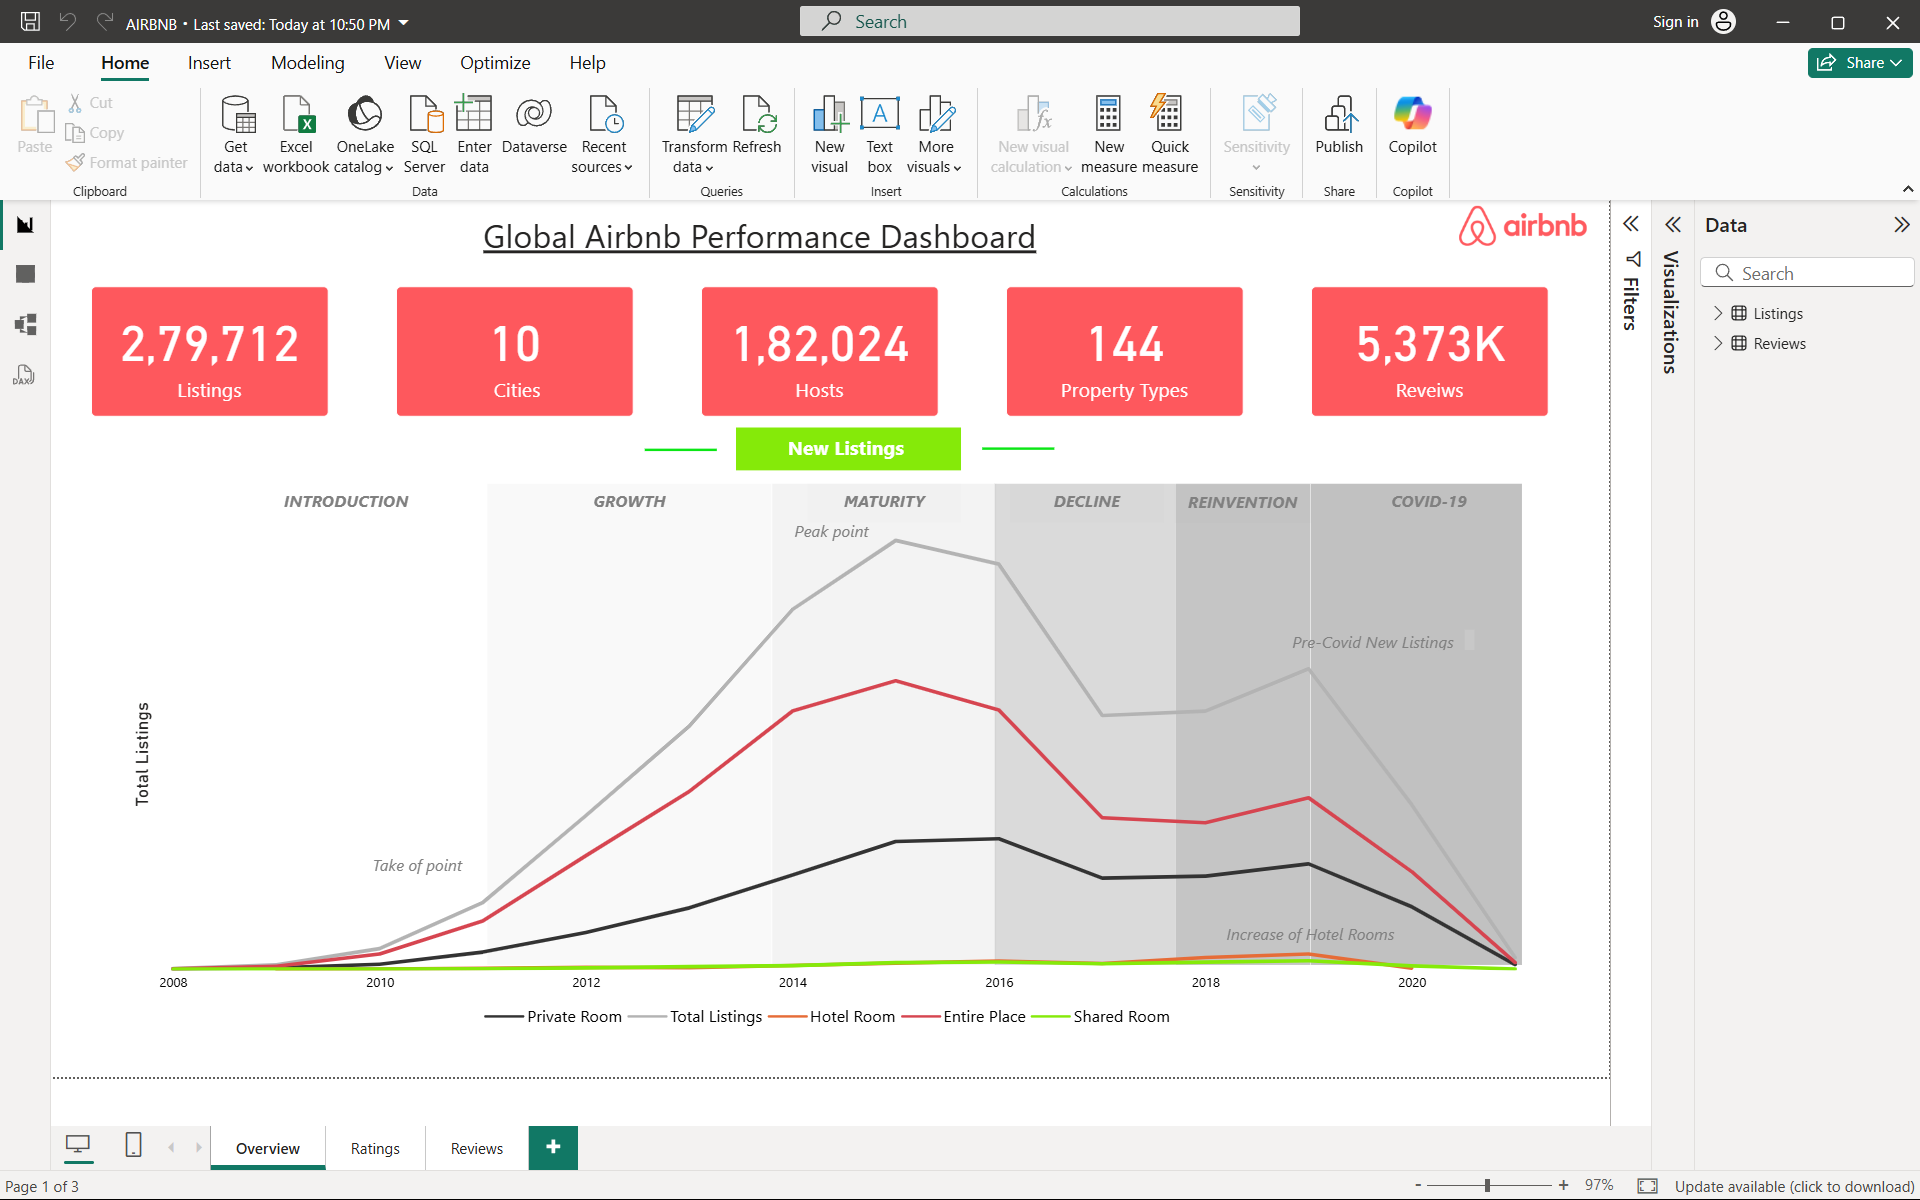

This screenshot's page, from the dashboard's own definition file:
{"tool":"powerbi","page":{"name":"Overview","canvas":[1280,720],"ordinal":0},"visuals":[{"type":"shape","box":[83.7,233.7,274.4,395.3],"z":0},{"type":"shape","box":[358.7,232.7,233.3,395.2],"z":1000},{"type":"shape","box":[592,232.7,183.9,395.2],"z":2000},{"type":"shape","box":[775.6,232.6,148.8,395.3],"z":3000},{"type":"shape","box":[924.4,232.6,110.5,395.3],"z":4000},{"type":"shape","box":[1034.9,232.6,173.3,395.3],"z":5000},{"type":"textbox","box":[349.6,6.6,532.4,63.1],"z":6000},{"type":"image","box":[1136.2,0,144.1,42.5],"z":7000},{"type":"card","fields":{"Values":["CountNonNull(Listings.listing_id)"]},"box":[32.7,71.2,194.9,107],"z":8000},{"type":"card","fields":{"Values":["CountNonNull(Reviews.review_id)"]},"box":[1034.4,71.2,194.9,107],"z":9000},{"type":"card","fields":{"Values":["Count(Listings.property_type)"]},"box":[783.9,71.2,194.9,107],"z":10000},{"type":"card","fields":{"Values":["Count(Listings.host_id)"]},"box":[533.5,71.2,194.9,107],"z":11000},{"type":"card","fields":{"Values":["Count(Listings.city)"]},"box":[283.1,71.2,194.9,107],"z":12000},{"type":"lineChart","fields":{"Category":["Listings.host_since.Variation.Date Hierarchy.Year","Listings.host_since.Variation.Date Hierarchy.Quarter","Listings.host_since.Variation.Date Hierarchy.Month","Listings.host_since.Variation.Date Hierarchy.Day"],"Y":["Listings.Private Room","Listings.Total Listings","Listings.Hotel Room","Listings.Entire Place","Listings.Shared Room"]},"box":[61.6,265.1,1158.1,424.4],"z":13000},{"type":"textbox","box":[562.8,187.2,184.9,34.9],"z":14000},{"type":"textbox","box":[163.8,233.4,156.4,31],"z":15000},{"type":"textbox","box":[404.7,233.4,141.5,39.7],"z":16000},{"type":"textbox","box":[620.6,233.4,126.6,32.3],"z":17000},{"type":"textbox","box":[787,233.4,126.6,32.3],"z":18000},{"type":"textbox","box":[923.3,233.7,111.6,31.4],"z":19000},{"type":"textbox","box":[1089.9,233.4,83.2,31],"z":20000},{"type":"textbox","box":[251.2,531.4,98.8,30.2],"z":21000},{"type":"textbox","box":[591.9,258.1,97.7,30.2],"z":22000},{"type":"textbox","box":[1004.7,347.7,168.6,26.7],"z":23000},{"type":"textbox","box":[951.2,588.4,167.4,30.2],"z":24000},{"type":"shape","box":[487.2,193,59.3,24.4],"z":25000},{"type":"shape","box":[765.1,191.9,59.3,24.4],"z":26000}]}

Visuals, with their boxes on the page's 1280x720 design canvas (x1, y1, x2, y2). These are canvas units, not pixel positions in the 1920x1200 screenshot, which may show the page scaled, cropped or inside an application window:
shape: (84, 234, 358, 629)
shape: (359, 233, 592, 628)
shape: (592, 233, 776, 628)
shape: (776, 233, 924, 628)
shape: (924, 233, 1035, 628)
shape: (1035, 233, 1208, 628)
textbox: (350, 7, 882, 70)
image: (1136, 0, 1280, 42)
card - CountNonNull(Listings.listing_id): (33, 71, 228, 178)
card - CountNonNull(Reviews.review_id): (1034, 71, 1229, 178)
card - Count(Listings.property_type): (784, 71, 979, 178)
card - Count(Listings.host_id): (534, 71, 728, 178)
card - Count(Listings.city): (283, 71, 478, 178)
lineChart - Listings.host_since.Variation.Date Hierarchy.Year x Listings.host_since.Variation.Date Hierarchy.Quarter: (62, 265, 1220, 690)
textbox: (563, 187, 748, 222)
textbox: (164, 233, 320, 264)
textbox: (405, 233, 546, 273)
textbox: (621, 233, 747, 266)
textbox: (787, 233, 914, 266)
textbox: (923, 234, 1035, 265)
textbox: (1090, 233, 1173, 264)
textbox: (251, 531, 350, 562)
textbox: (592, 258, 690, 288)
textbox: (1005, 348, 1173, 374)
textbox: (951, 588, 1119, 619)
shape: (487, 193, 546, 217)
shape: (765, 192, 824, 216)
